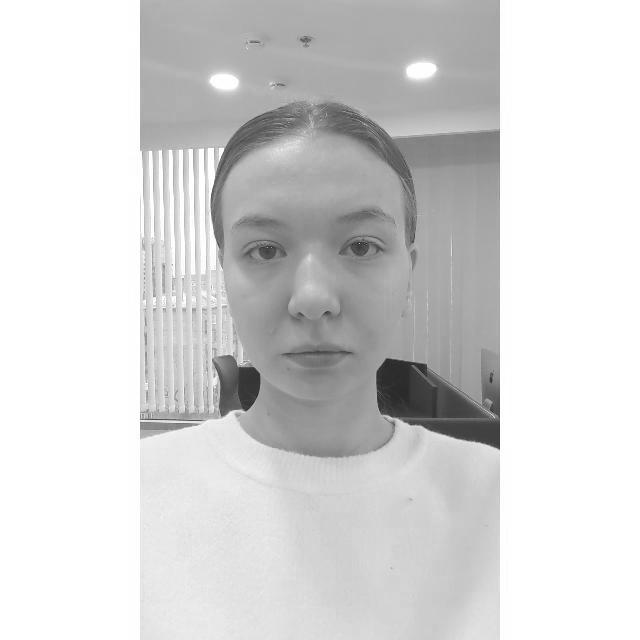real: (221, 150, 415, 402)
